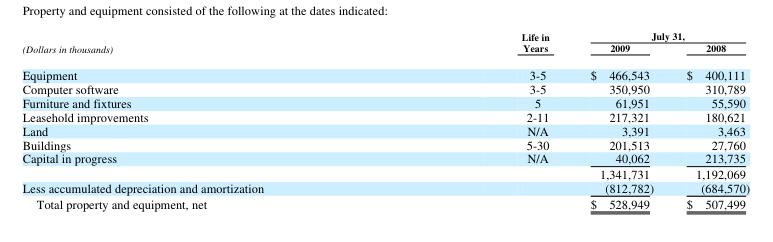table: (21, 28, 749, 211)
table column: (21, 28, 392, 211), (392, 28, 569, 211), (569, 28, 669, 211), (669, 28, 749, 211)
table column header: (21, 28, 749, 60)
table row: (21, 60, 749, 81), (21, 41, 749, 60), (21, 195, 749, 211), (21, 150, 749, 165), (21, 165, 749, 180), (21, 180, 749, 195), (21, 81, 749, 95), (21, 95, 749, 109), (21, 109, 749, 123), (21, 136, 749, 150), (21, 28, 749, 41), (21, 123, 749, 136)
table spanning cell: (21, 28, 392, 60), (392, 28, 569, 60), (569, 28, 749, 41)
